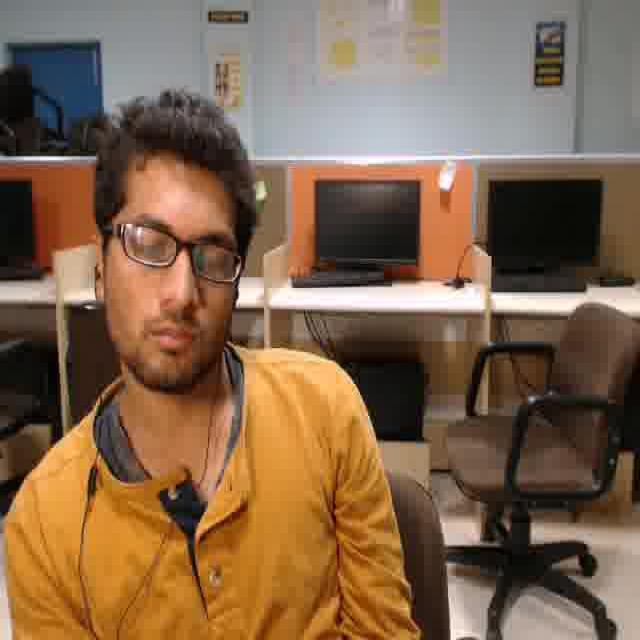Boredom: (105, 157, 234, 386)
